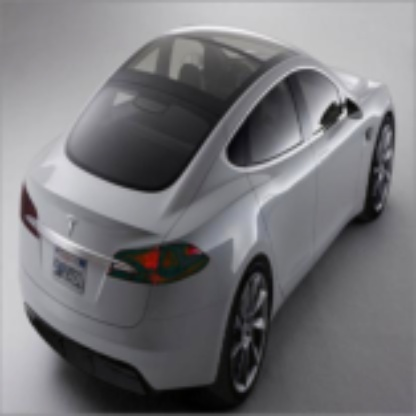Vehicle: (6, 14, 407, 414)
